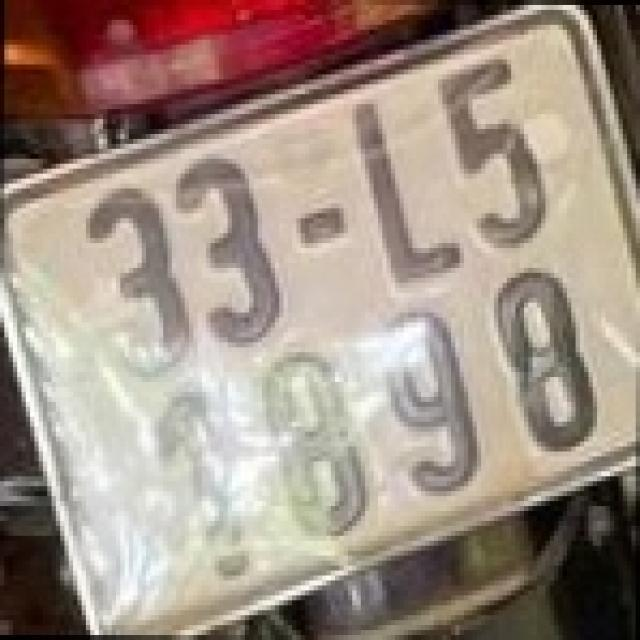3: (78, 174, 194, 372), (176, 154, 288, 352)
5: (436, 57, 561, 246)
8: (490, 263, 606, 457)
9: (378, 303, 486, 502)
L: (352, 89, 468, 288)
